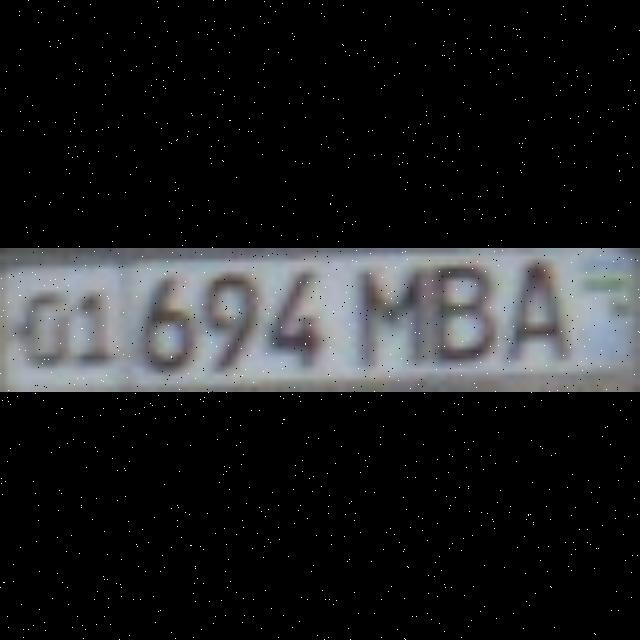0: (19, 279, 63, 361)
1: (63, 286, 101, 360)
4: (257, 261, 313, 361)
6: (132, 273, 188, 361)
9: (195, 267, 245, 367)
A: (496, 255, 558, 362)
B: (427, 254, 483, 354)
M: (352, 261, 414, 361)
